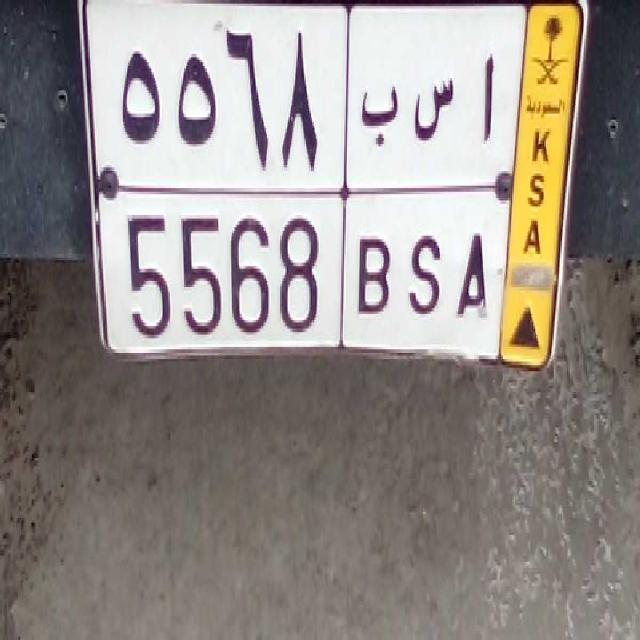license_plate: (108, 192, 506, 372)
